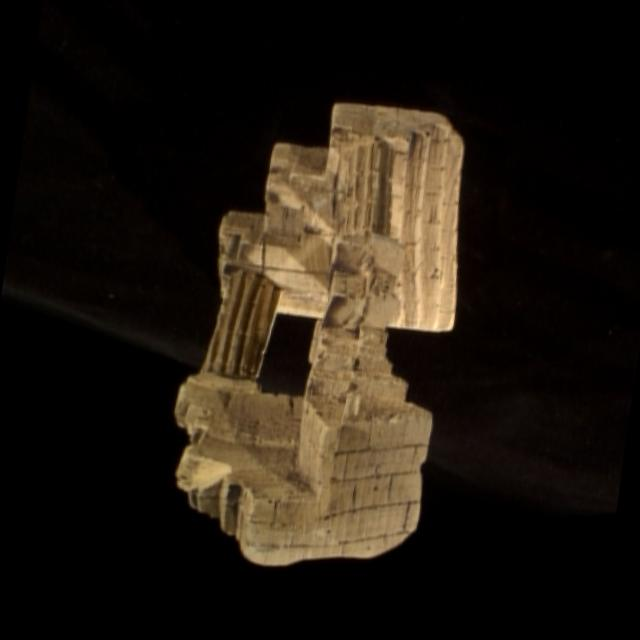Instance-Segmentation: (174, 103, 462, 564)
